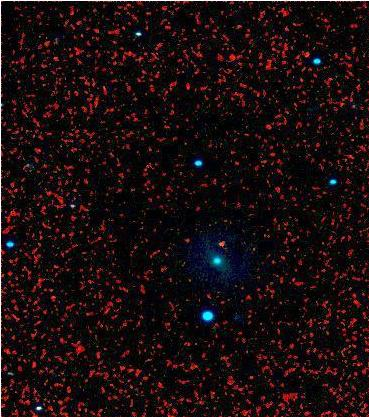star: (206, 227, 236, 257)
